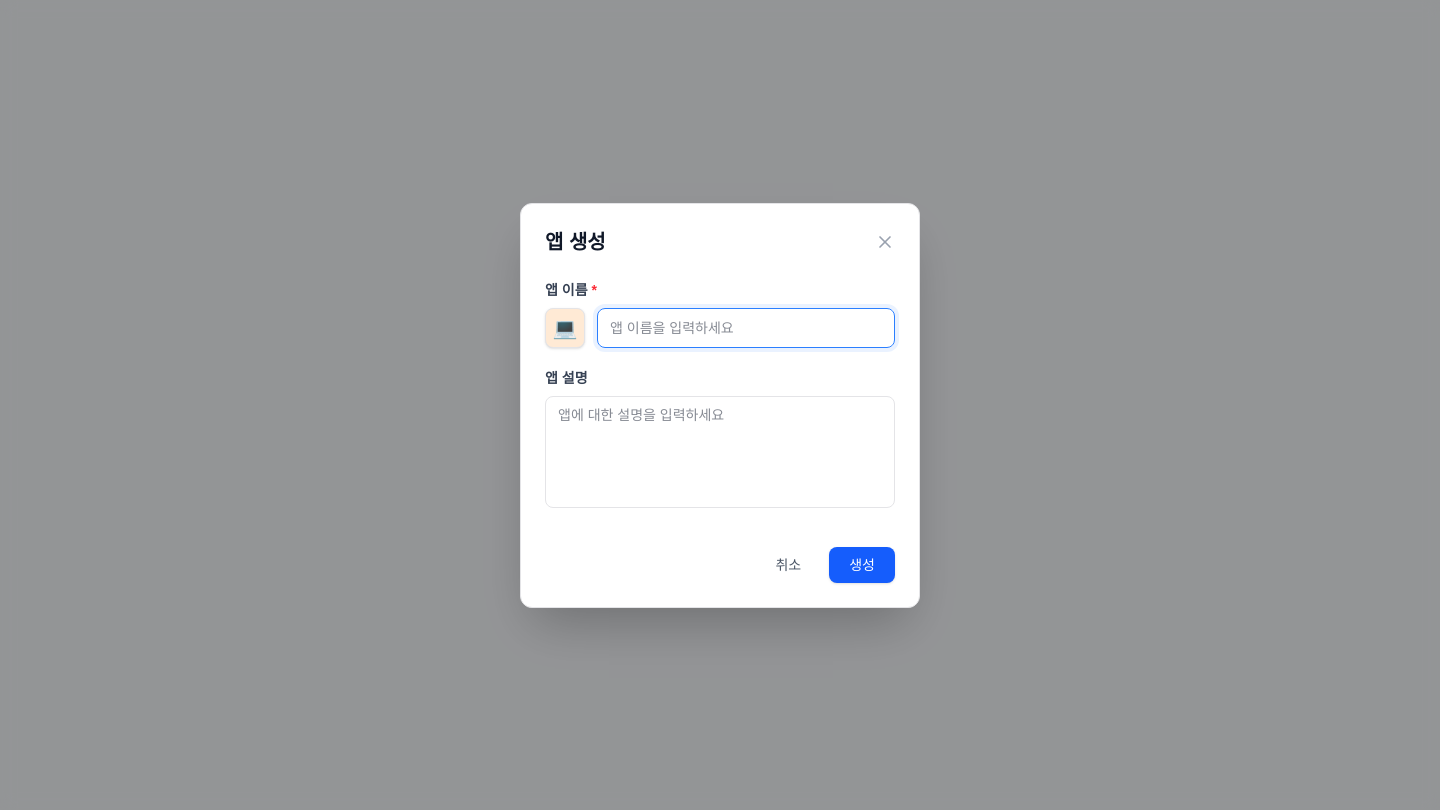
Scenario: CreateAppModal 권한 신청 연결 › 신청 성공 시 신청 완료 안내를 표시한다 (ORG-TC-E011)
The image size is (1440, 810).
Type "온보딩 봇" into the field with placeholder "앱 이름을 입력하세요" at (746, 328), box [597,308,895,348]
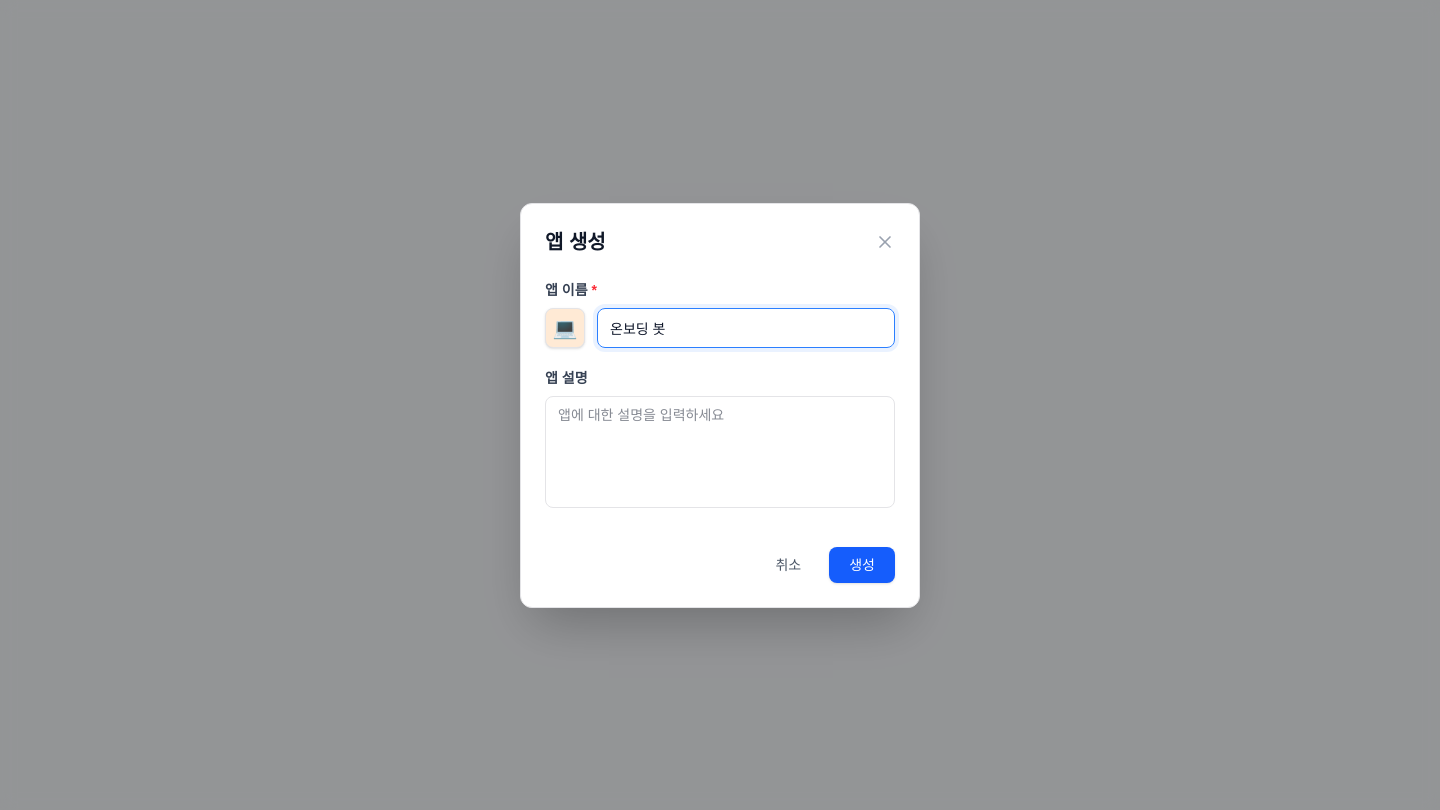
Click the button "생성" at (862, 564), box [829,546,895,582]
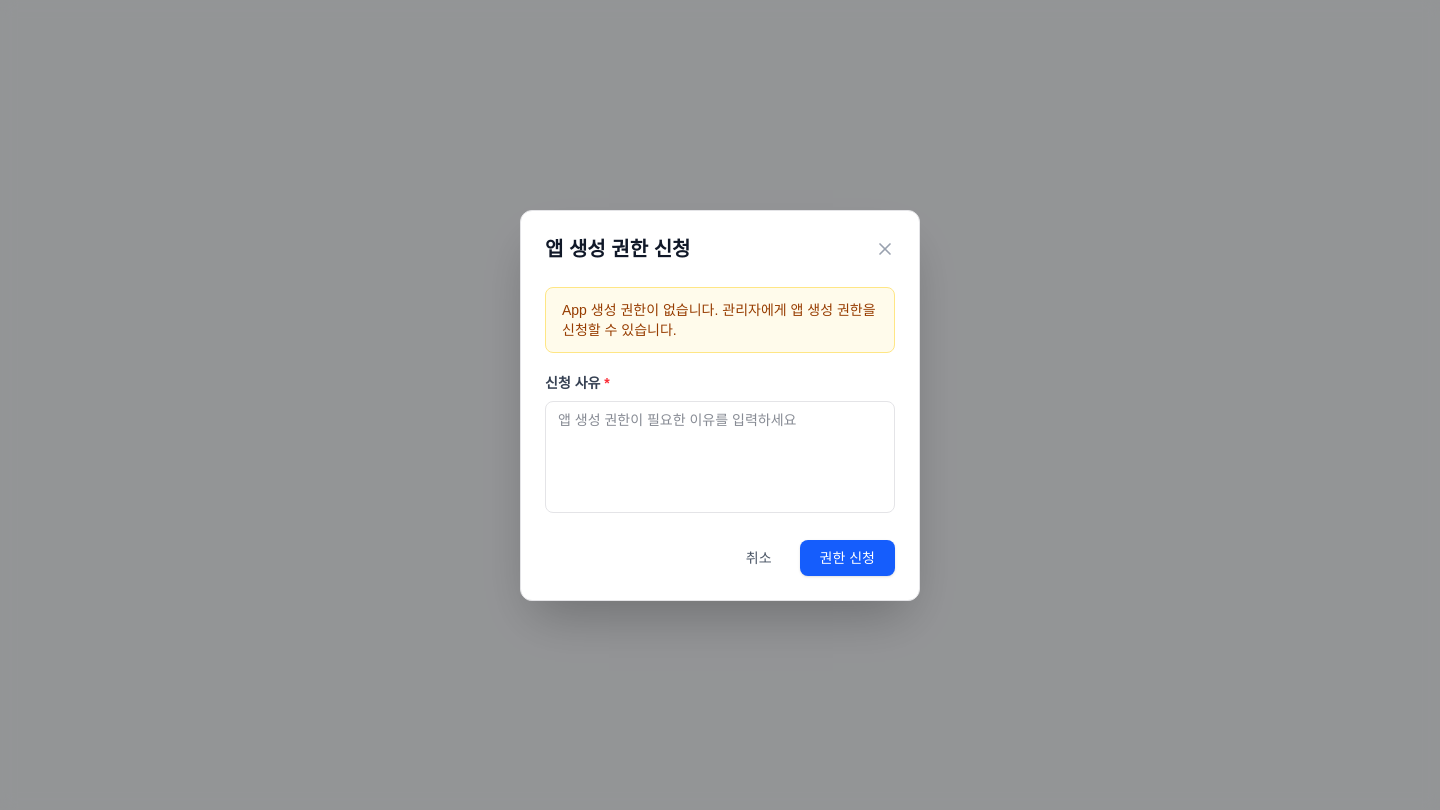
Expected: the heading "앱 생성 권한 신청" is shown, [545,234,690,262]
Type "온보딩 워크플로우를 만들어야 합니다." into the text box labelled "신청 사유 *" at (720, 456), box [545,400,895,512]
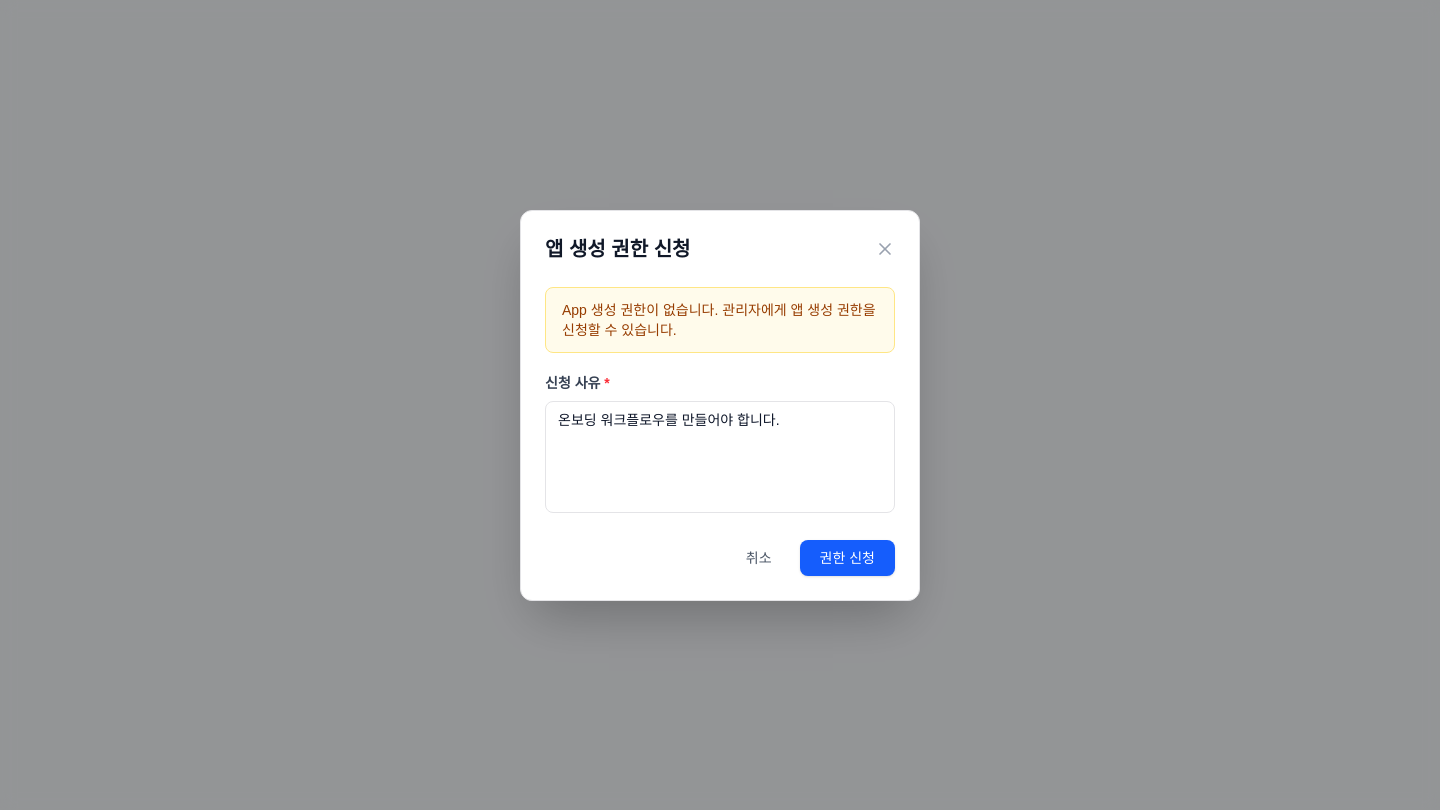
Click the button "권한 신청" at (847, 558), box [800,540,895,576]
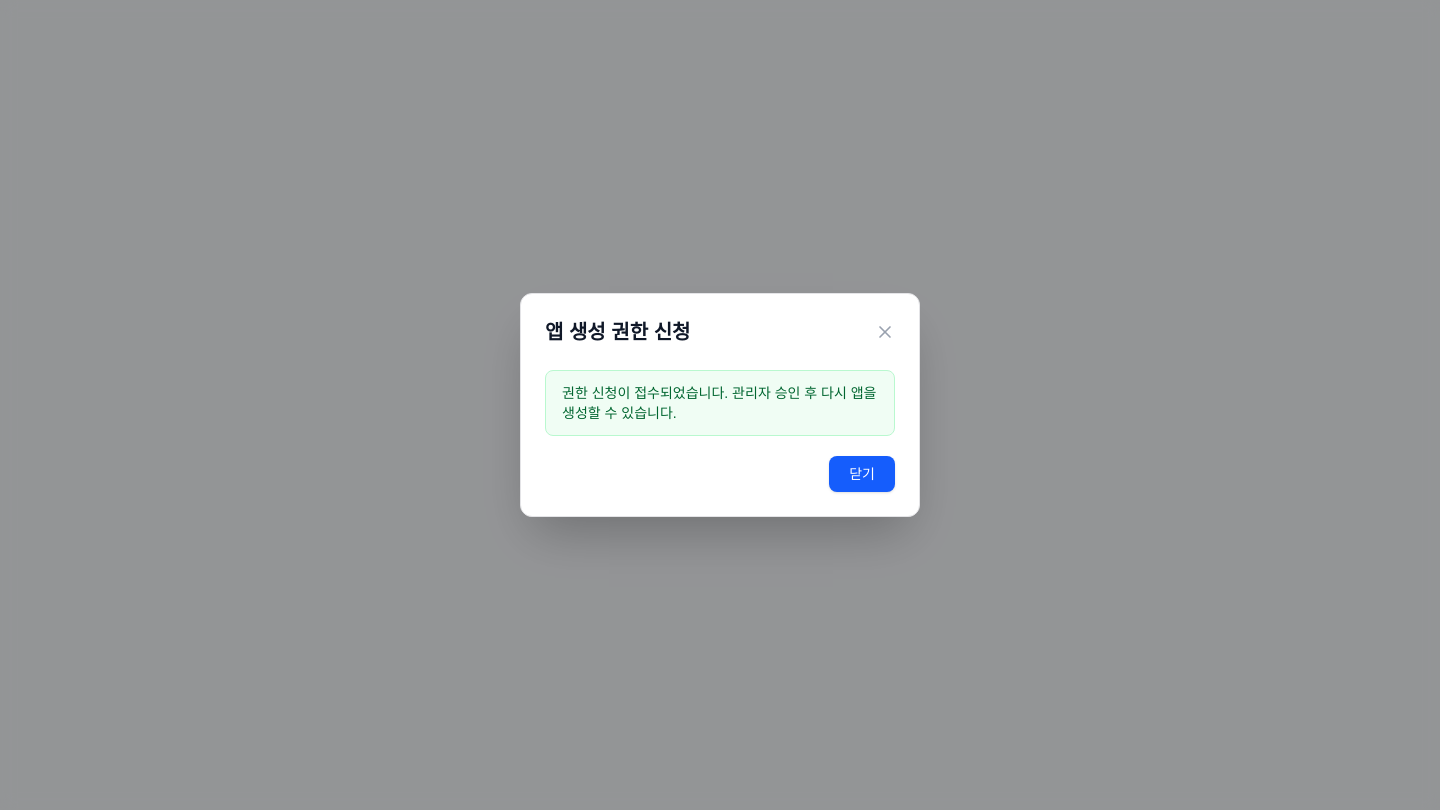
Expected: the text "권한 신청이 접수되었습니다. 관리자 승인 후 다시 앱을 생성할 수 있습니다." is shown, [545,370,895,436]
Expected: the button "닫기" is shown, [829,456,895,492]
